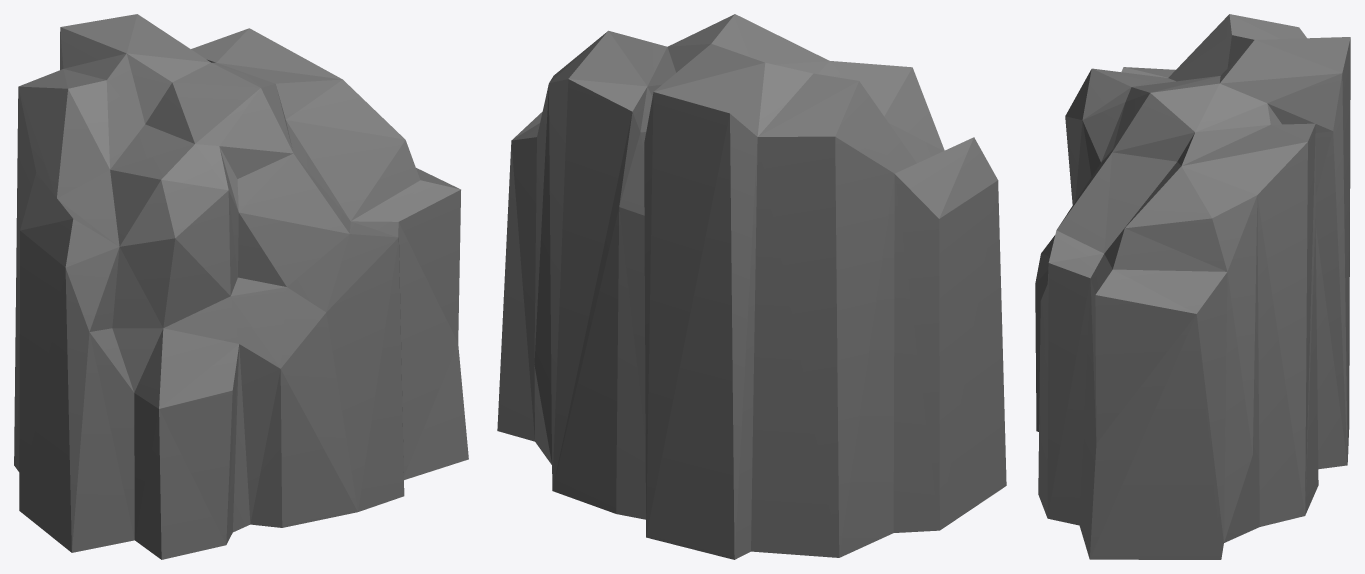
Rendered from stone large 2.fbx.
The picture shows the model from 3 angles, left to right: view 1: azimuth 30°, elevation 25°; view 2: azimuth 150°, elevation 25°; view 3: azimuth 270°, elevation 25°; orthographic projection. The views are drawn at different scales.
Parts seen in each view (by area): view 1: stone large 2; view 2: stone large 2; view 3: stone large 2.
Boxes of the visible parts, left/top/right/bottom form: stone large 2: left=14, top=14, right=468, bottom=559; stone large 2: left=497, top=14, right=1006, bottom=559; stone large 2: left=1035, top=14, right=1350, bottom=559.
Size of the model in its own units: 592 by 584 by 421.
